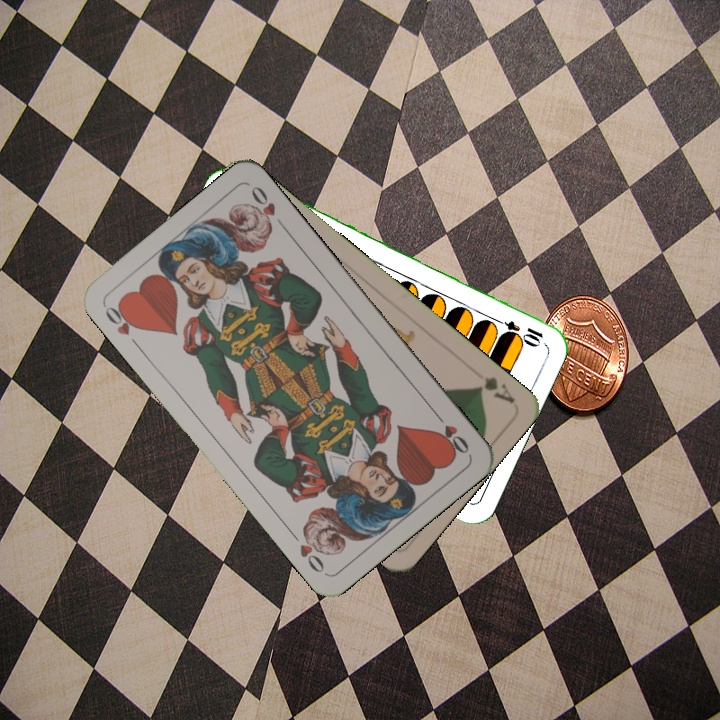E10: (488, 313, 546, 347)
GA: (472, 372, 517, 406)
HO: (100, 298, 143, 351), (429, 407, 472, 457)
